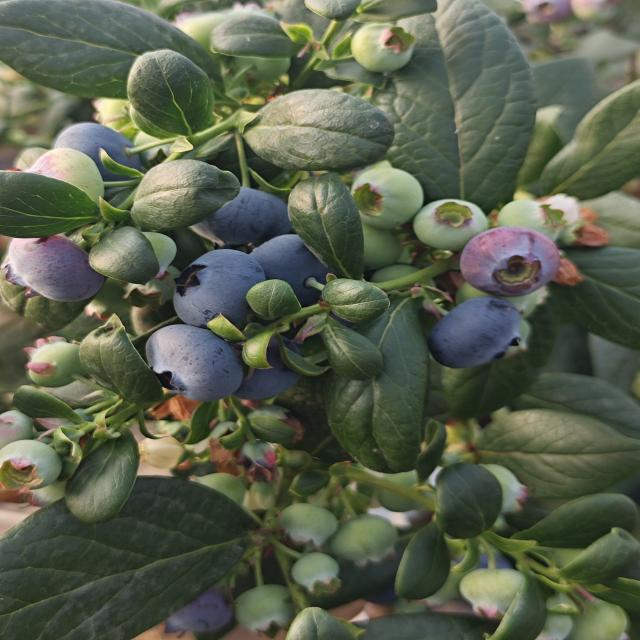ripe: (143, 322, 246, 403), (170, 248, 268, 330), (424, 294, 526, 371), (457, 224, 562, 298), (3, 233, 108, 305), (245, 235, 340, 306), (223, 335, 309, 408), (157, 579, 245, 640), (54, 120, 138, 173), (216, 190, 287, 240)
